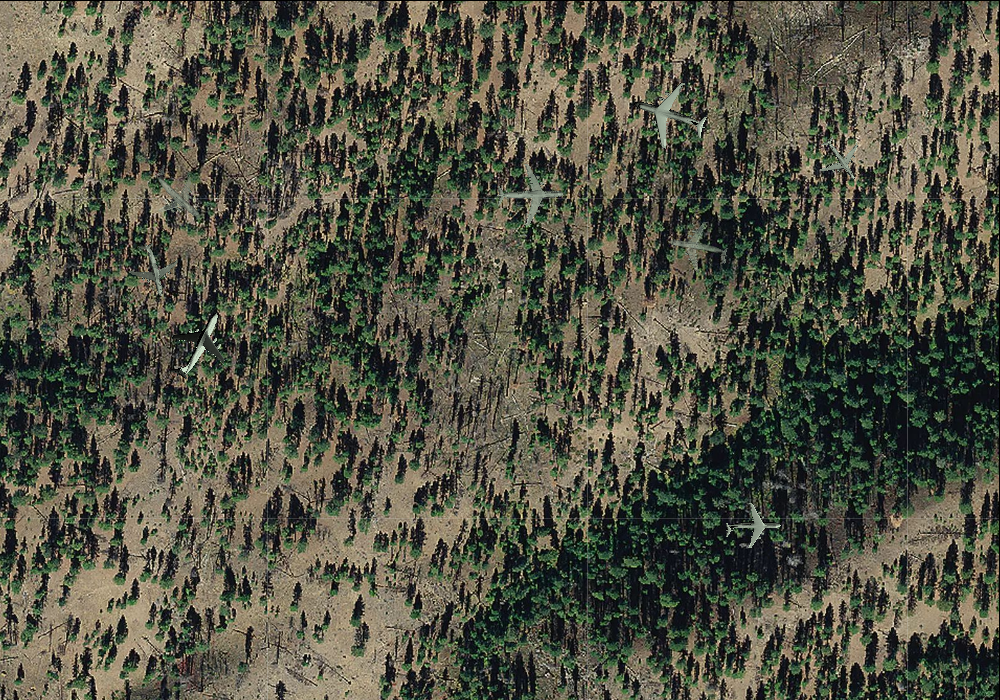plane: (150, 296, 244, 393), (623, 69, 716, 160), (135, 150, 221, 236), (663, 215, 733, 281), (495, 162, 564, 226), (808, 125, 873, 192), (121, 236, 185, 302), (724, 500, 781, 554)
